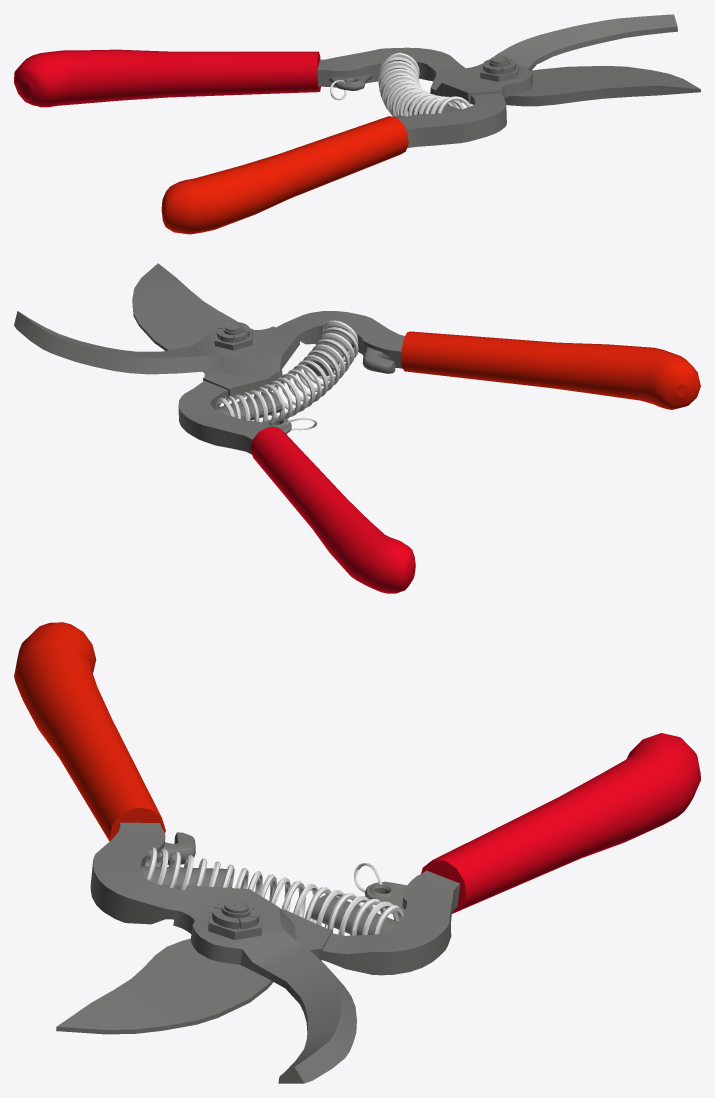
Rendered from Scissors.fbx.
3 views of the same model, one above another, from view 1: azimuth 30°, elevation 25°; view 2: azimuth 150°, elevation 25°; view 3: azimuth 270°, elevation 25° (orthographic). The views are drawn at different scales.
Parts seen in each view (by area): view 1: garden_scissors_08; view 2: garden_scissors_08; view 3: garden_scissors_08.
Part boxes in pixels (x1,y1,x2,y2): garden_scissors_08: (14,14,700,234); garden_scissors_08: (14,263,700,593); garden_scissors_08: (14,622,700,1083).
Size of the model in its own units: 87.25 by 13.37 by 61.21.
